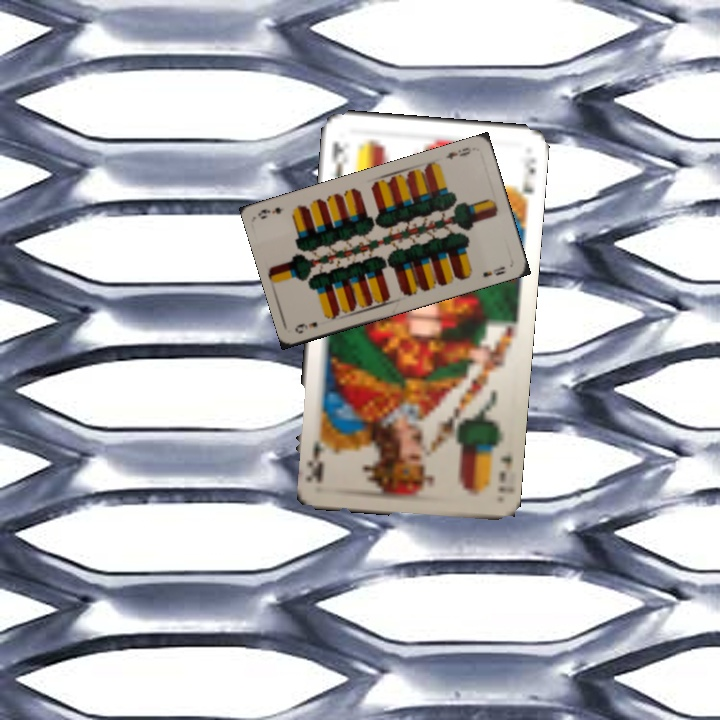E9: (441, 143, 474, 162), (291, 318, 320, 336)
EK: (327, 137, 352, 182), (493, 451, 515, 495)
